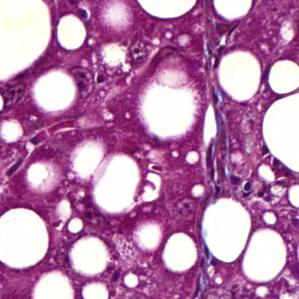steatosis: (214, 48, 266, 106), (160, 228, 204, 273), (53, 12, 91, 49)
